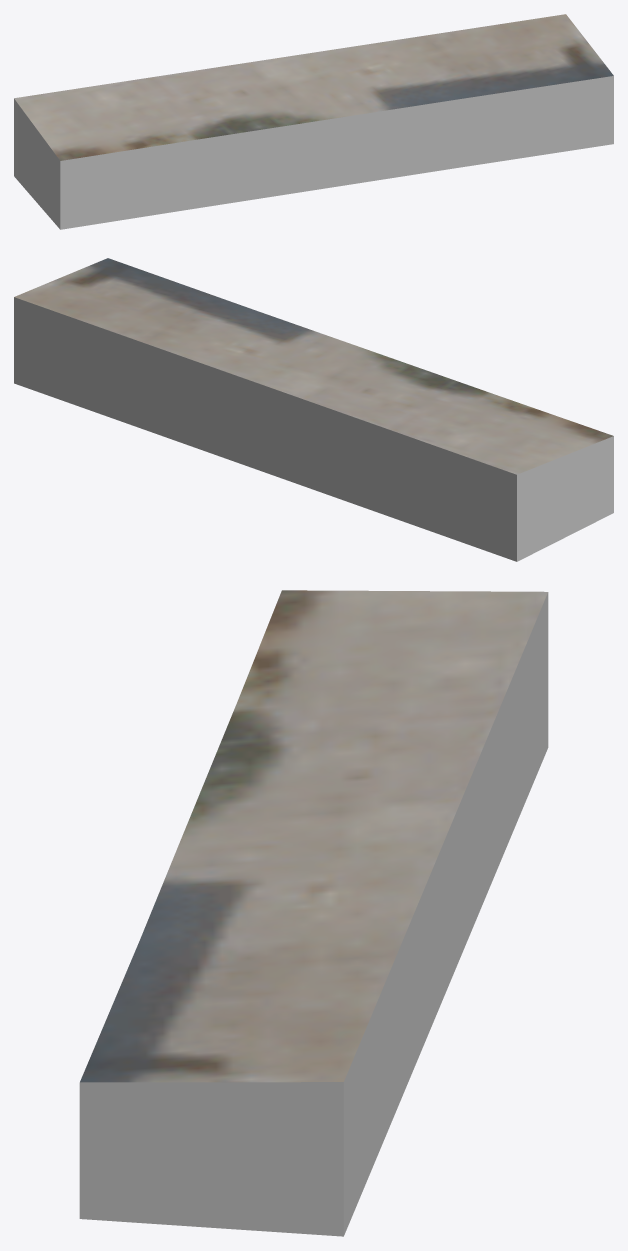
Rendered from DEBW_0010007Tx5U.gltf.
3 renders of one model, top to bottom at view 1: azimuth 30°, elevation 25°; view 2: azimuth 150°, elevation 25°; view 3: azimuth 270°, elevation 25°, orthographic. The views are drawn at different scales.
Visible parts, largest first — view 1: Z_UP; view 2: Z_UP; view 3: Z_UP.
Part boxes in pixels (box(x1,y1,x2,y2)): Z_UP: box(14, 14, 613, 229); Z_UP: box(14, 258, 613, 561); Z_UP: box(79, 590, 548, 1236).
Size of the model in its own units: 26.84 by 3.84 by 10.45.
Materials: 2 (1 with a texture image).
